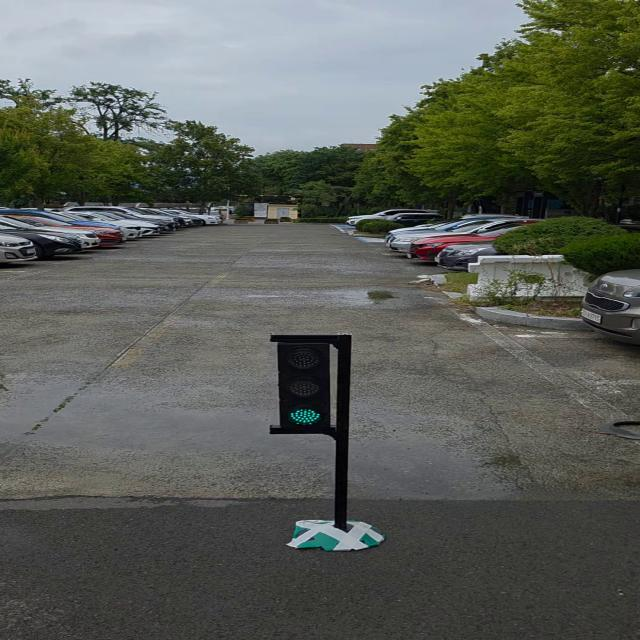green: (277, 337, 345, 435)
